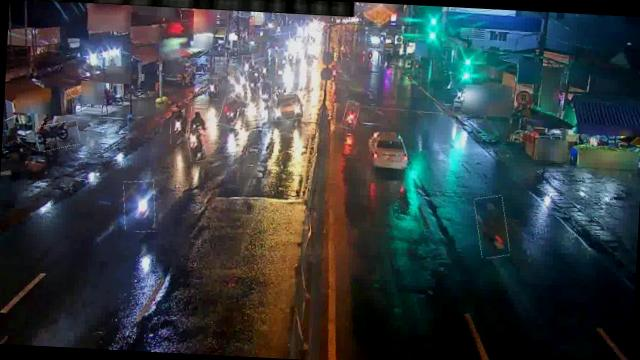Bike: (474, 195, 510, 259), (121, 180, 156, 233), (36, 120, 80, 150), (272, 90, 302, 122), (218, 98, 248, 130), (186, 128, 206, 162), (169, 108, 184, 145), (342, 100, 358, 128), (259, 80, 272, 108), (230, 74, 244, 100), (202, 76, 217, 100), (190, 106, 204, 130), (237, 68, 249, 92), (246, 72, 258, 96), (242, 56, 250, 72)
